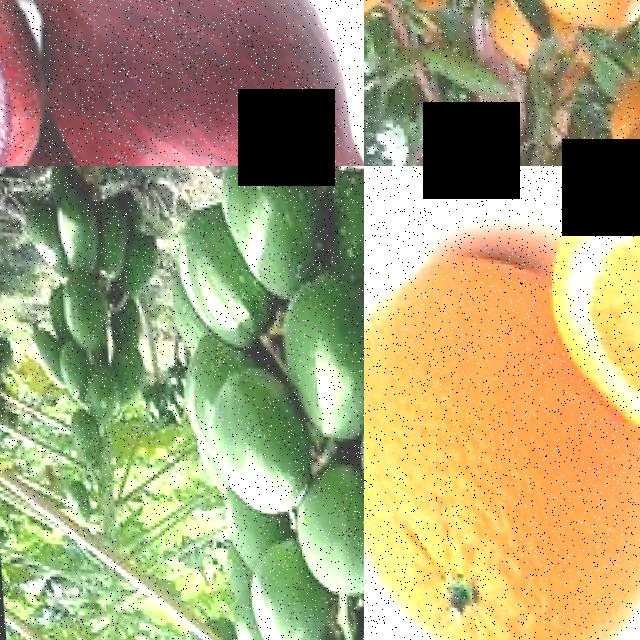onion: (29, 0, 364, 166)
orange: (364, 239, 566, 640)
pawpaw: (200, 357, 305, 519), (282, 257, 364, 437), (213, 166, 320, 283), (172, 201, 254, 347), (295, 457, 364, 590), (245, 532, 317, 640), (321, 166, 364, 281), (58, 265, 105, 348), (57, 190, 99, 272), (93, 191, 131, 277), (21, 202, 60, 276), (80, 355, 118, 423), (127, 230, 162, 298), (114, 335, 143, 405), (56, 337, 84, 407), (64, 407, 97, 466)
